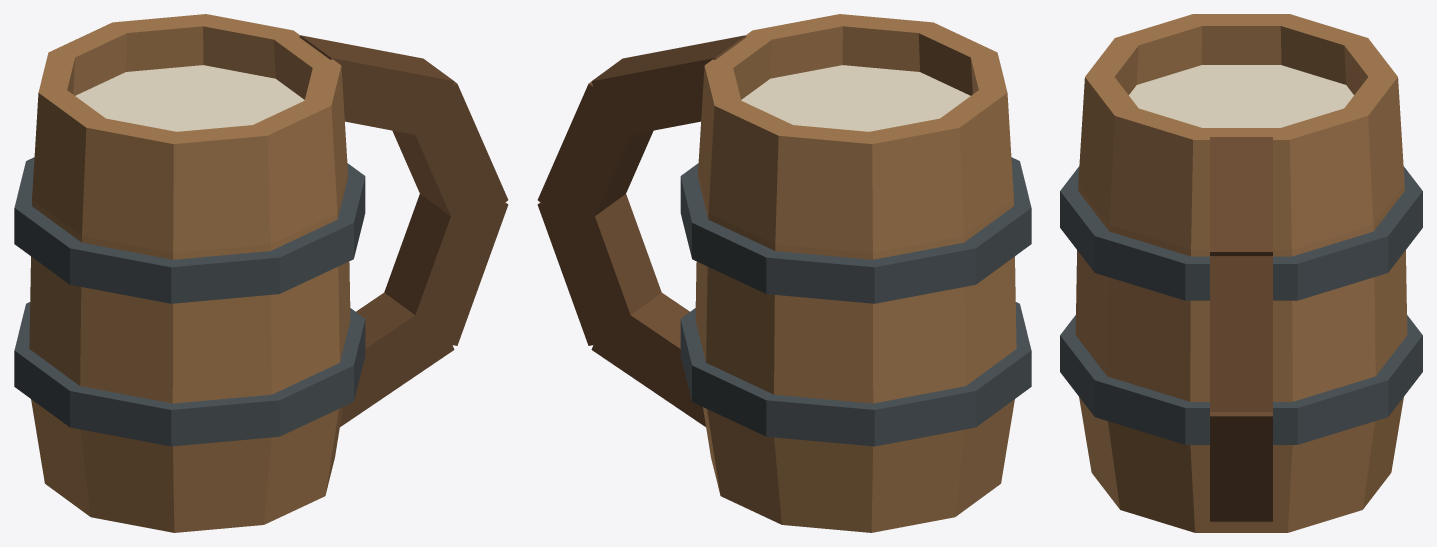
Rendered from mdvl_food_ale_mug_01.glb.
The picture shows the model from 3 angles, left to right: view 1: azimuth 30°, elevation 25°; view 2: azimuth 150°, elevation 25°; view 3: azimuth 270°, elevation 25°; orthographic projection.
Parts seen in each view (by area): view 1: mdvl_food_ale_mug_01; view 2: mdvl_food_ale_mug_01; view 3: mdvl_food_ale_mug_01.
Boxes of the visible parts, x1,y1,x2,y2 form: mdvl_food_ale_mug_01: [14, 14, 508, 532]; mdvl_food_ale_mug_01: [537, 14, 1031, 532]; mdvl_food_ale_mug_01: [1060, 14, 1422, 532].
Bounding box in the file's own units: 0.1422 × 0.1194 × 0.098.
Materials: 1 (1 with a texture image).
